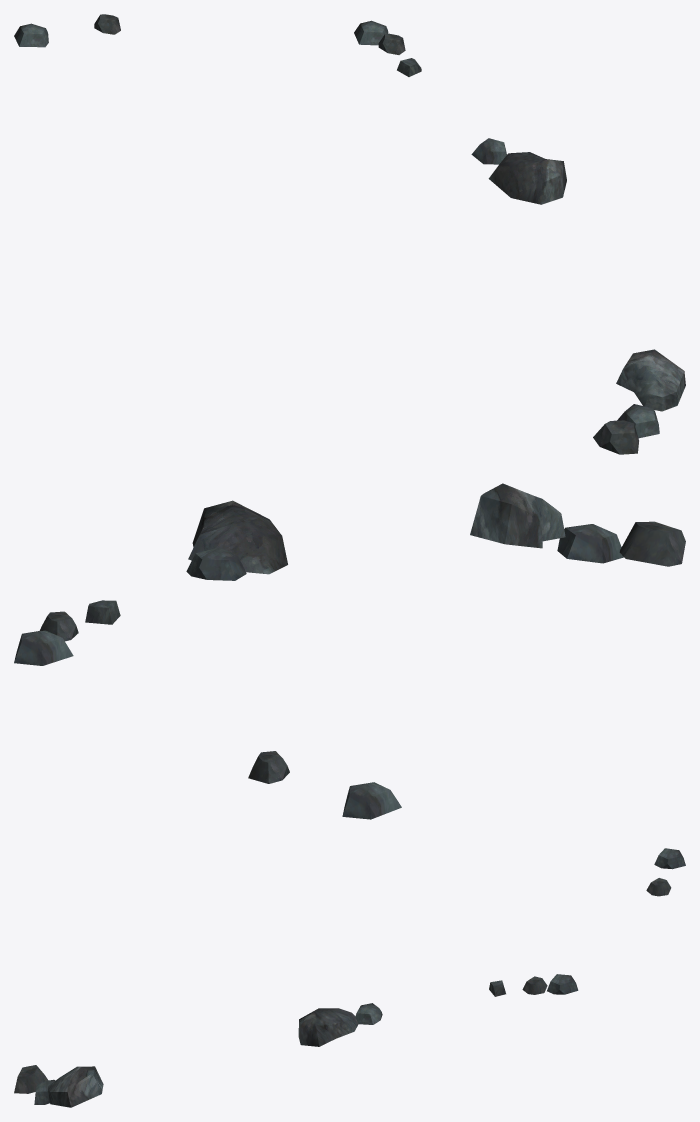
The model's file is object_rubble31.fbx.
The picture shows the model from 3 angles, top to bottom: view 1: azimuth 30°, elevation 25°; view 2: azimuth 150°, elevation 25°; view 3: azimuth 270°, elevation 25°; orthographic projection. The views are drawn at different scales.
Visible parts, largest first — view 1: Material_#238683587/cliffside; view 2: Material_#238683587/cliffside; view 3: Material_#238683587/cliffside.
Part boxes in pixels (x1=…): Material_#238683587/cliffside: x1=14, y1=14, x2=685, y2=454; Material_#238683587/cliffside: x1=14, y1=483, x2=685, y2=819; Material_#238683587/cliffside: x1=14, y1=848, x2=685, y2=1107.
Bounding box in the file's own units: 4.77 × 2.55 × 9.81.
